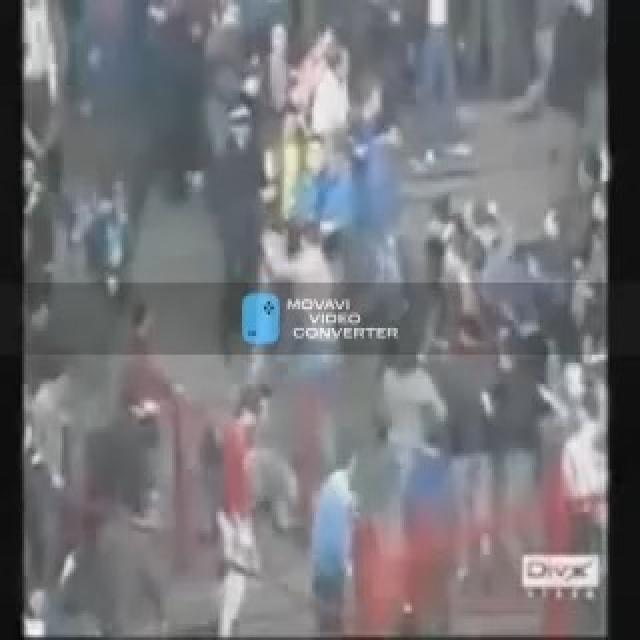non-voilence: (20, 0, 614, 637)
